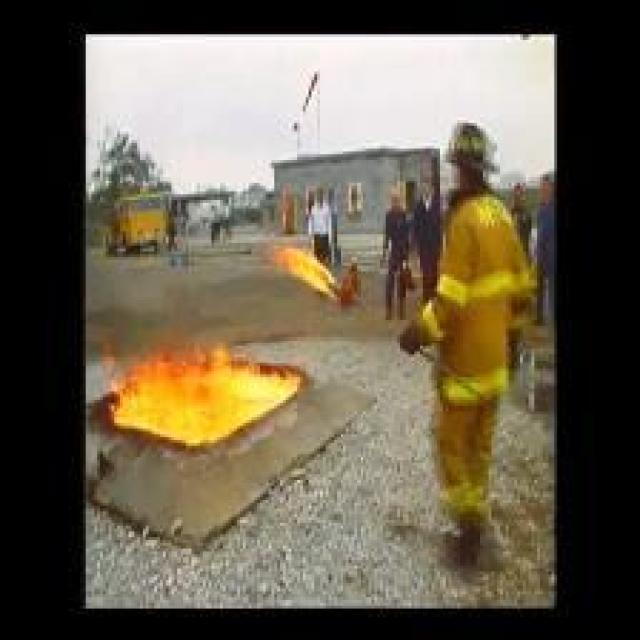fire: (92, 332, 308, 449), (266, 241, 341, 295)
